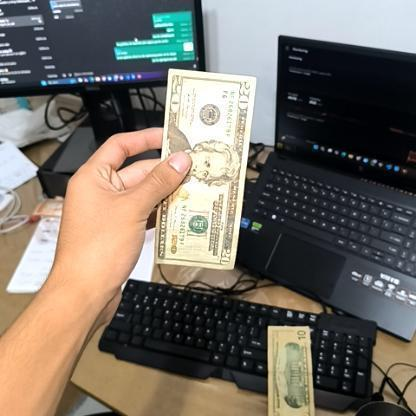ten-back: (264, 324, 316, 415)
twenty-front: (153, 67, 257, 270)
